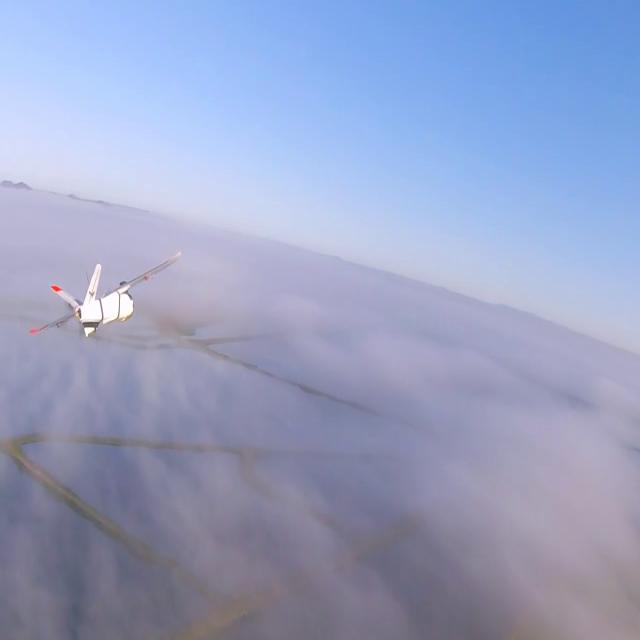iha: (0, 278, 118, 308)
